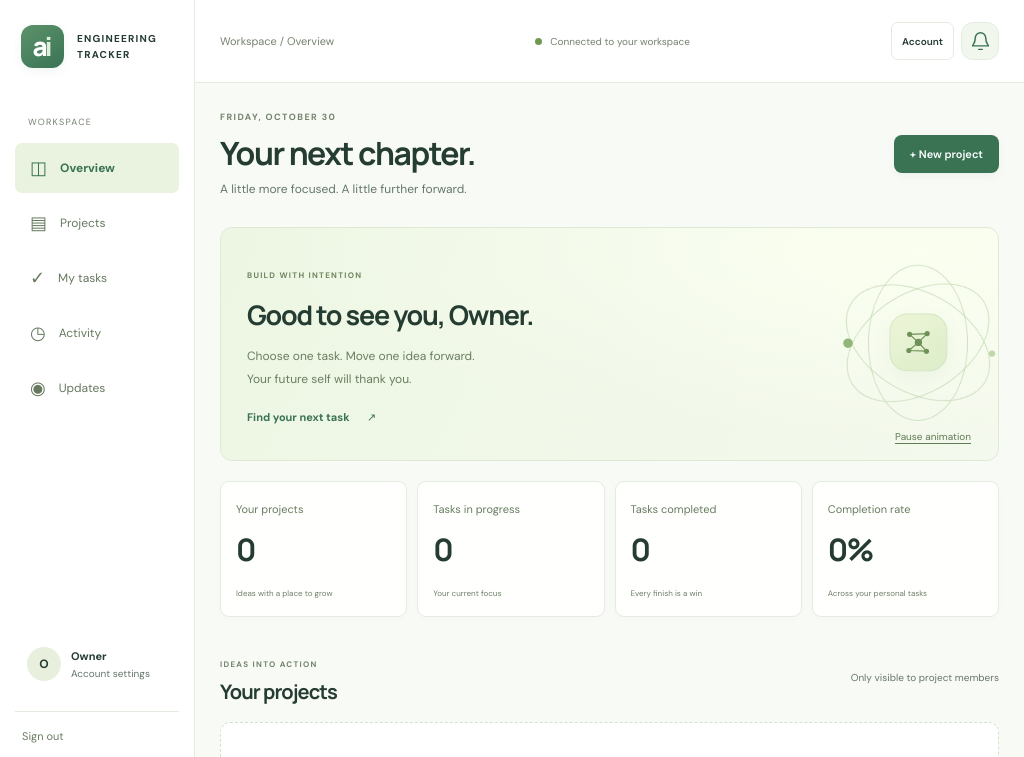
Scenario: replaces the decorative sidebar prompt with a real account action
Click the button with aria-label "Open account settings" at x=101, y=664, box [19,634,183,694]
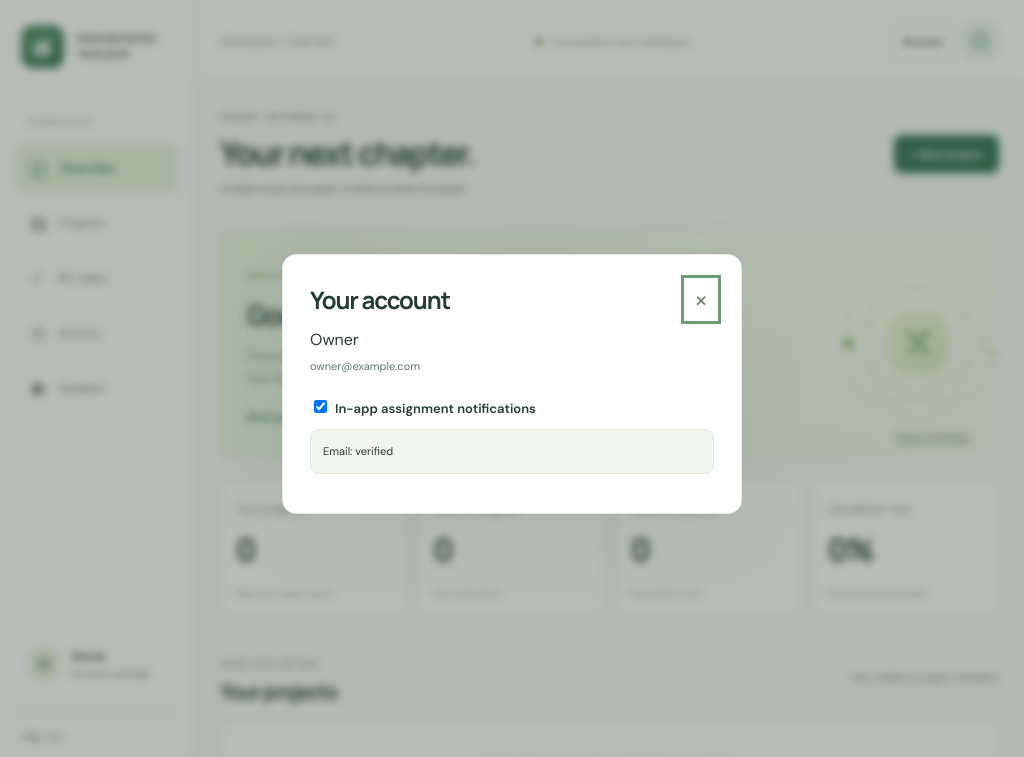
Result: the heading "Your account" is shown at [310,283,450,316]
